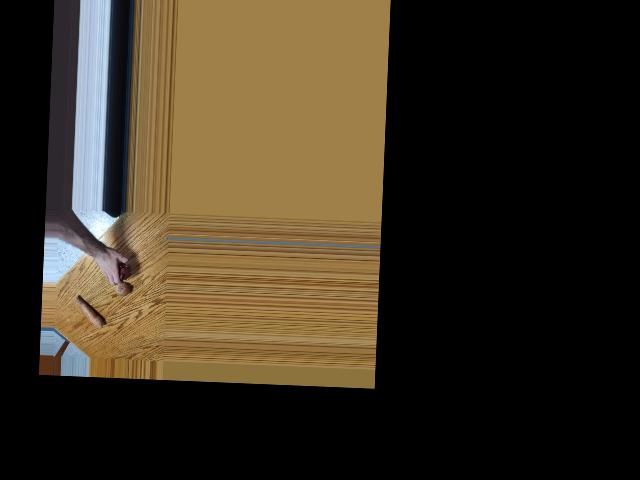onion: (115, 279, 132, 295)
